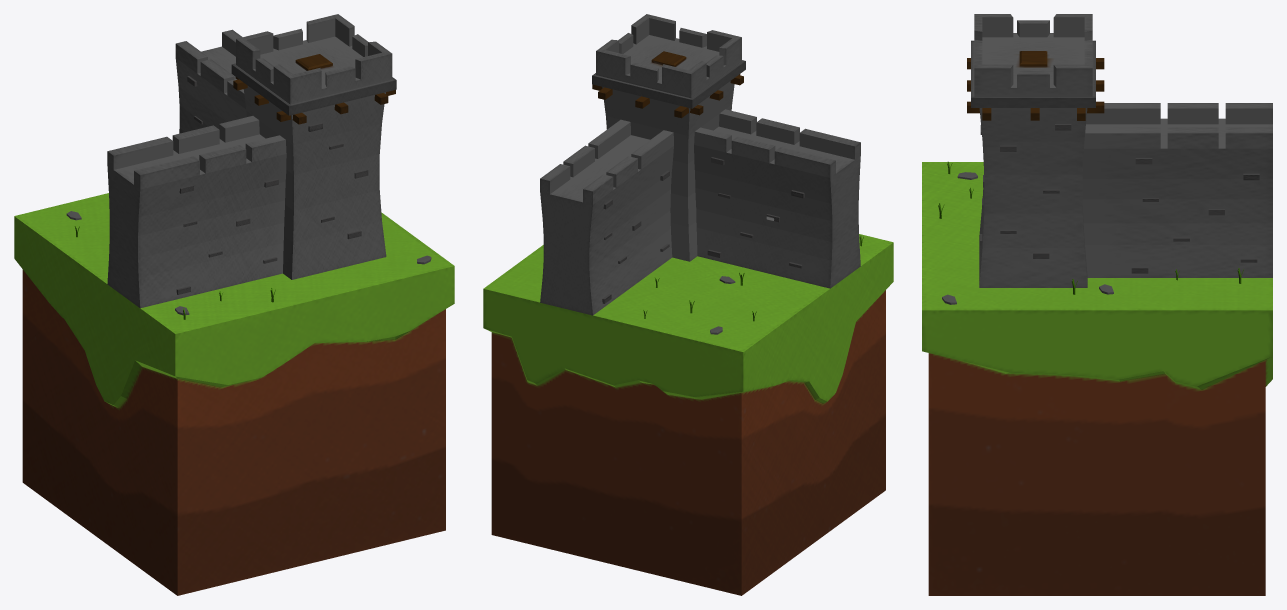
The model's file is Concepts_24.fbx.
3 renders of one model, left to right at view 1: azimuth 30°, elevation 25°; view 2: azimuth 150°, elevation 25°; view 3: azimuth 270°, elevation 25°, orthographic. The views are drawn at different scales.
Parts seen in each view (by area): view 1: Cube.238, Cube.030; view 2: Cube.238, Cube.030; view 3: Cube.238, Cube.030, Cube.246.
Part boxes in pixels (<box>): Cube.238: <box>14,193,454,595</box>; Cube.030: <box>107,14,396,308</box>; Cube.238: <box>483,234,893,595</box>; Cube.030: <box>540,14,860,315</box>; Cube.238: <box>922,162,1272,595</box>; Cube.030: <box>967,14,1272,287</box>; Cube.246: <box>938,161,1243,304</box>.
Size of the model in its own units: 301 by 484 by 301.
